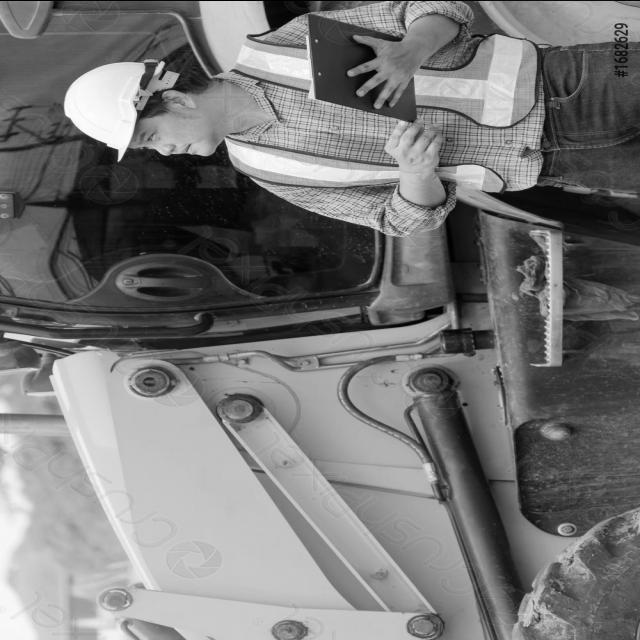safety_helmet: (64, 60, 180, 160)
